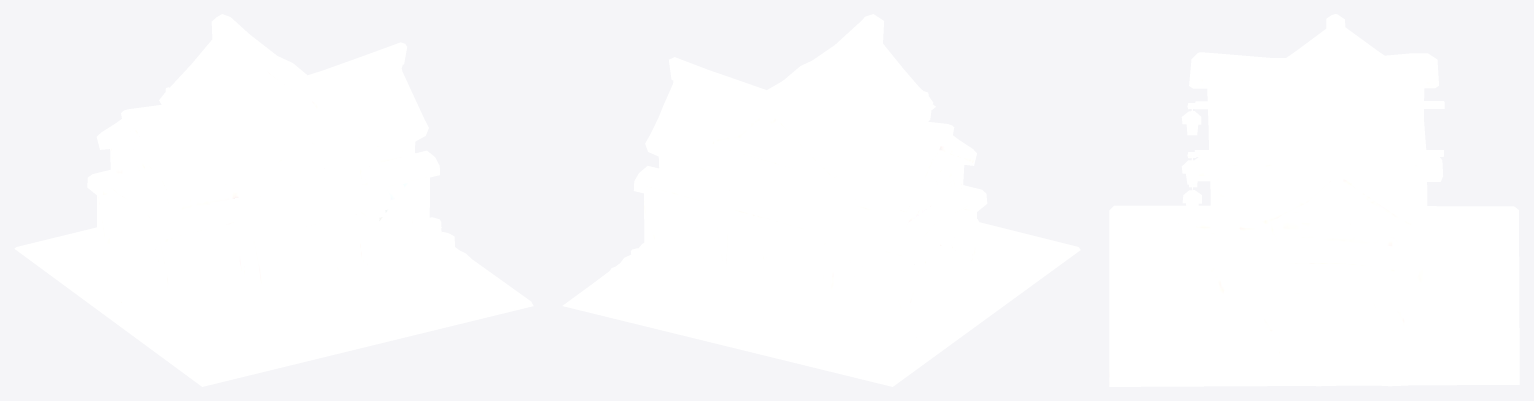
Rendered from cabana-neve.glb.
3 views of the same model, side by side, from view 1: azimuth 30°, elevation 25°; view 2: azimuth 150°, elevation 25°; view 3: azimuth 270°, elevation 25° (orthographic). The views are drawn at different scales.
Visible parts, largest first — view 1: mesh_node; view 2: mesh_node; view 3: mesh_node.
Boxes of the visible parts, box(x1,y1,x2,y2) form: mesh_node: box(14, 14, 533, 386); mesh_node: box(562, 14, 1080, 386); mesh_node: box(1109, 14, 1519, 386).
Bounding box in the file's own units: 1 × 0.6523 × 0.9844.
1 material, 1 textured.
